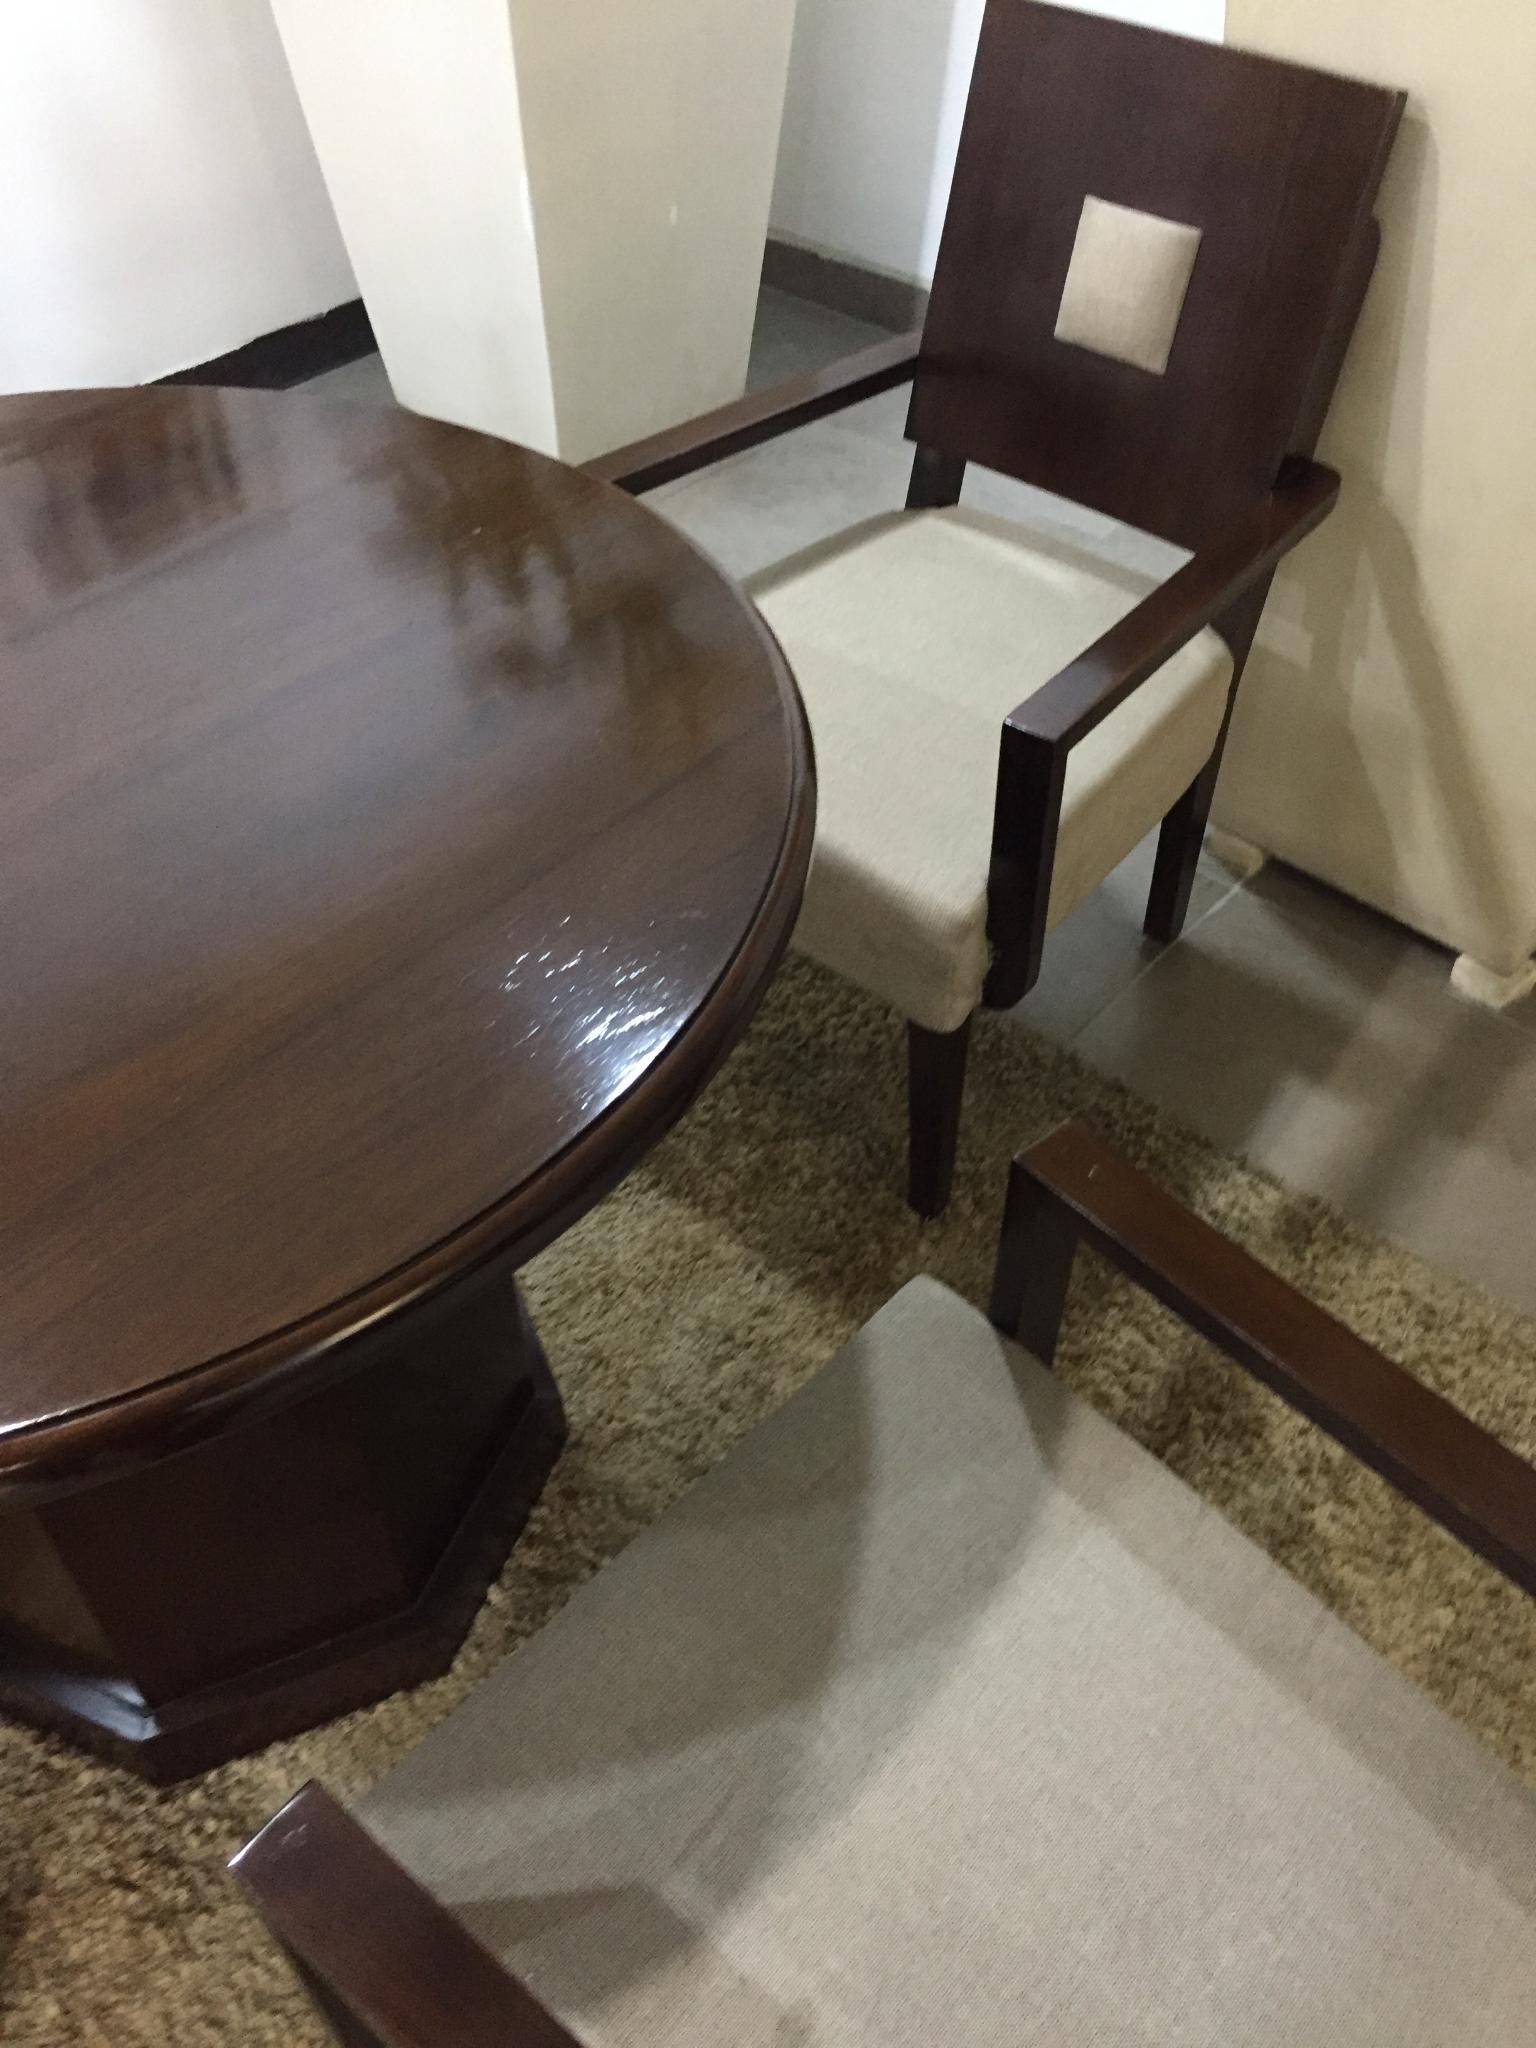chair: (587, 0, 1410, 1218)
